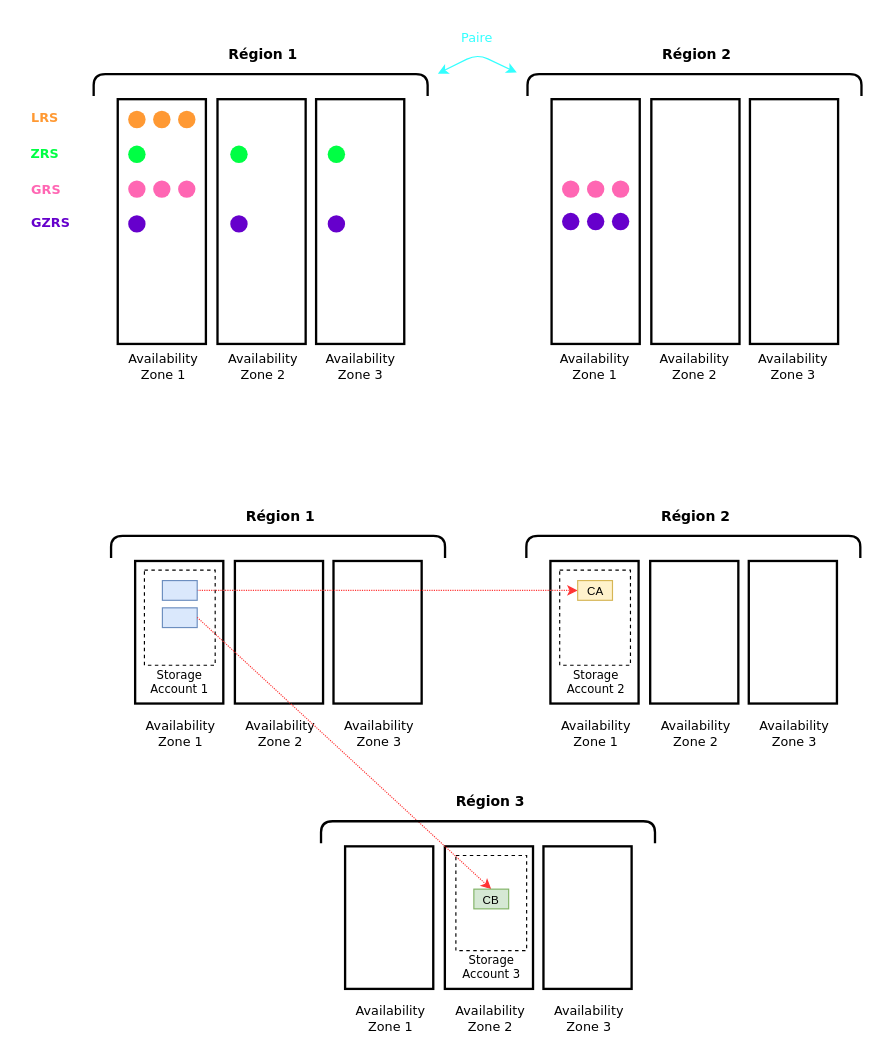
This 883x1060 diagram has some shape labels left out. Each missing label, with the centre of its shape:
C1: point 179,589
C2: point 179,617
